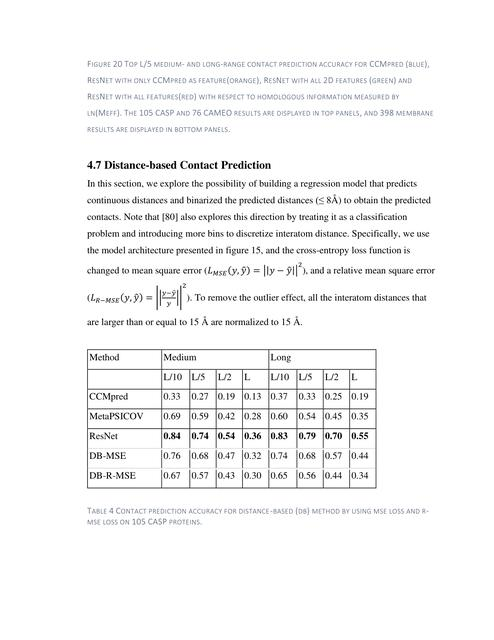box: (85, 347, 379, 491)
